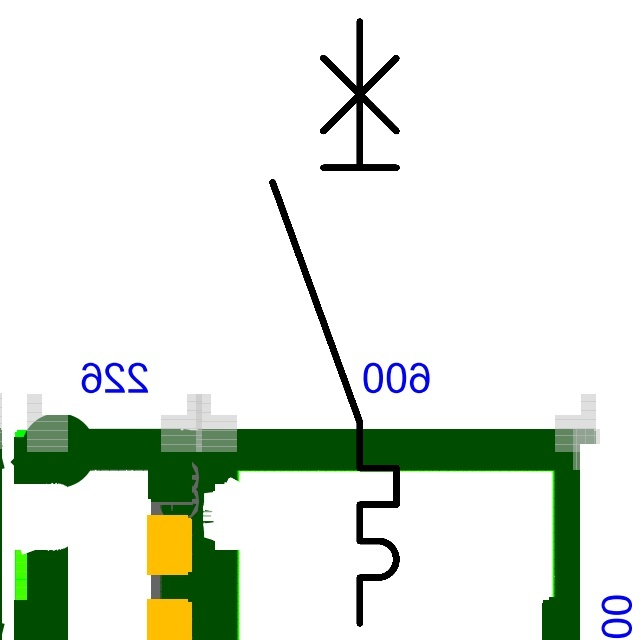interruptor_termomagnetico: (257, 6, 412, 639)
